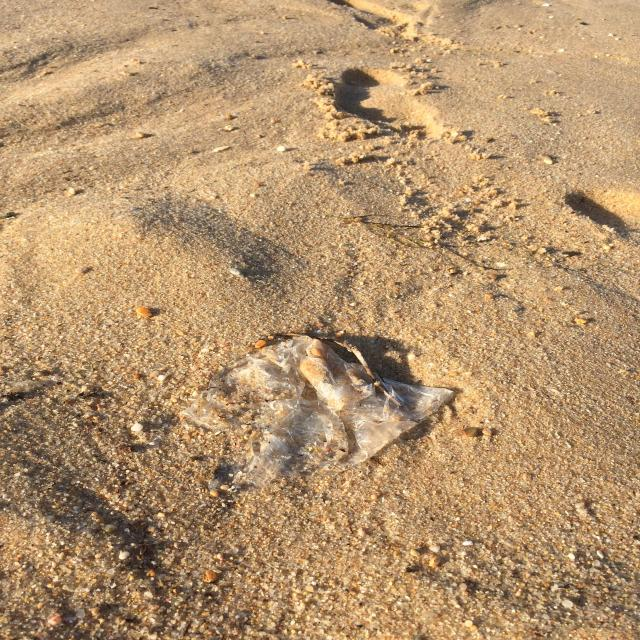Plastic film: (178, 335, 453, 494)
